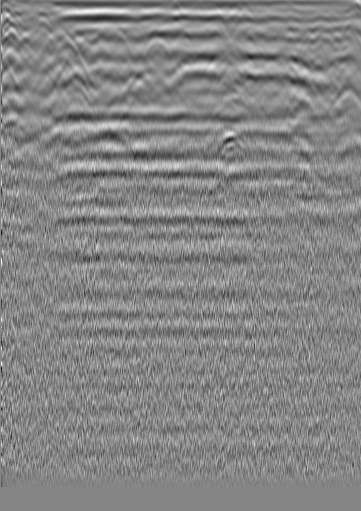가스: (205, 128, 250, 165)
상수: (316, 26, 336, 46)
오수: (30, 10, 55, 40)
우수: (145, 37, 171, 59)
